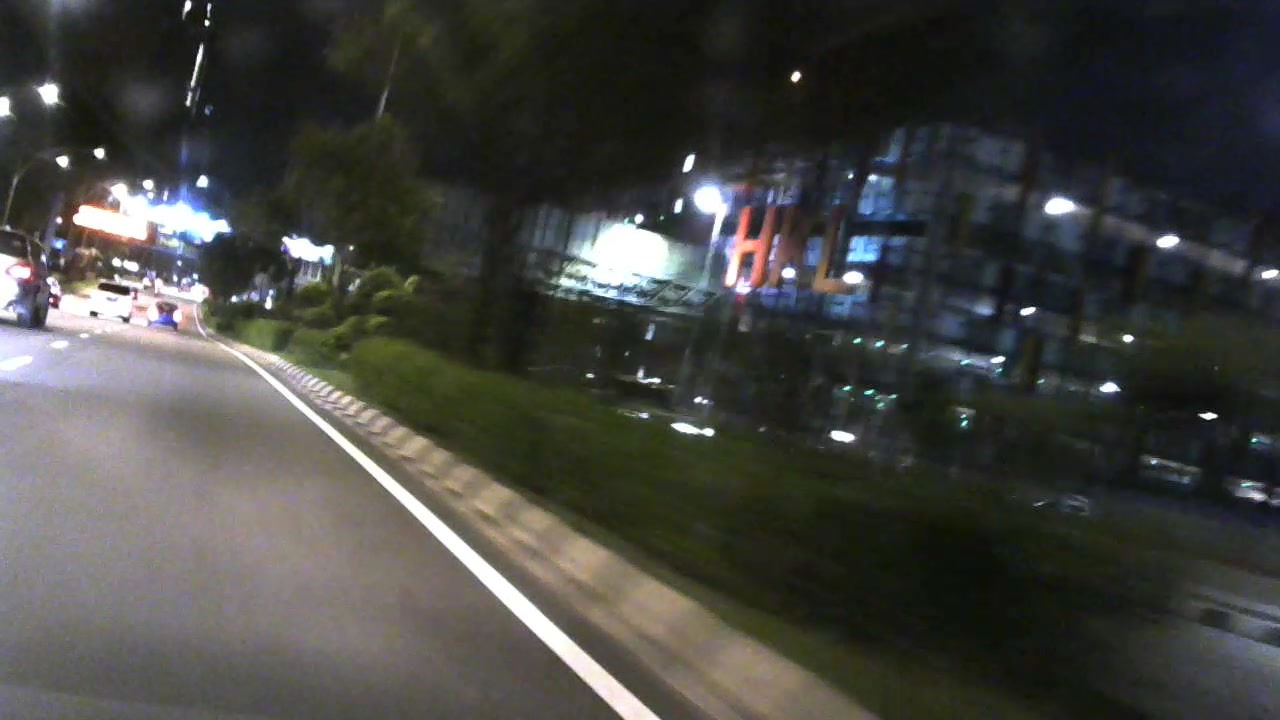Car: (1, 225, 56, 328), (87, 281, 135, 319), (150, 297, 185, 333)
